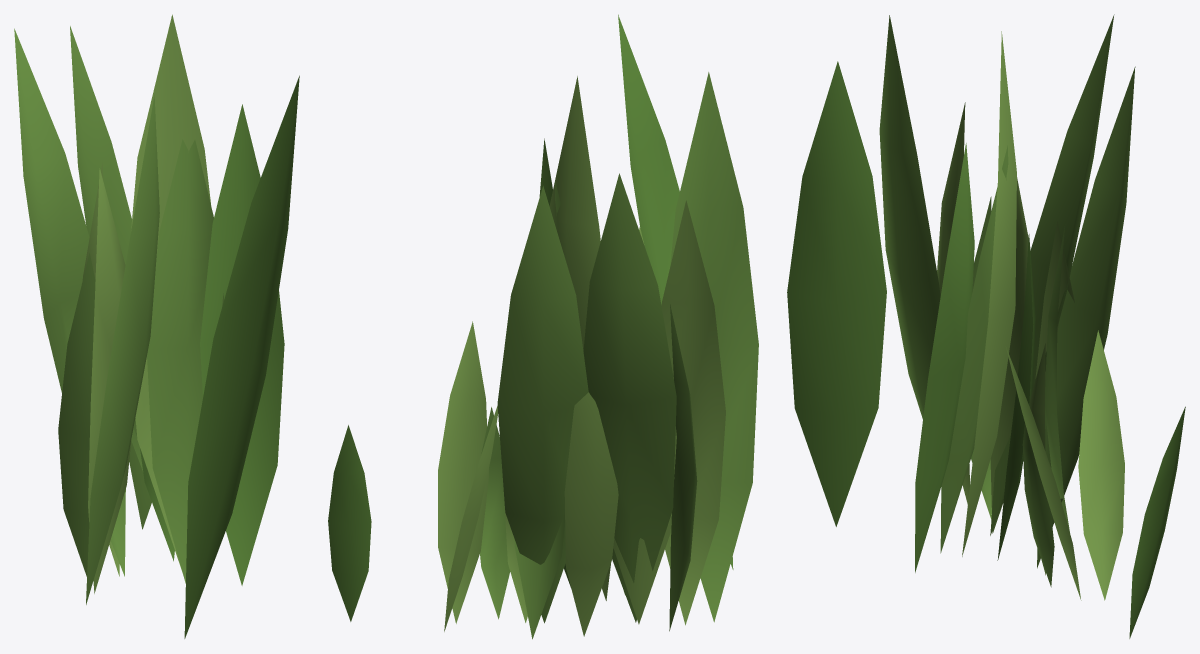
The model's file is grass_tuft.glb.
The picture shows the model from 3 angles, left to right: view 1: azimuth 30°, elevation 25°; view 2: azimuth 150°, elevation 25°; view 3: azimuth 270°, elevation 25°; orthographic projection. The views are drawn at different scales.
Visible parts, largest first — view 1: Grass; view 2: Grass; view 3: Grass.
Boxes of the visible parts, x1,y1,x2,y2 form: Grass: [14, 14, 299, 638]; Grass: [328, 14, 758, 639]; Grass: [787, 14, 1185, 638].
Bounding box in the file's own units: 0.2669 × 0.4602 × 0.3131.
